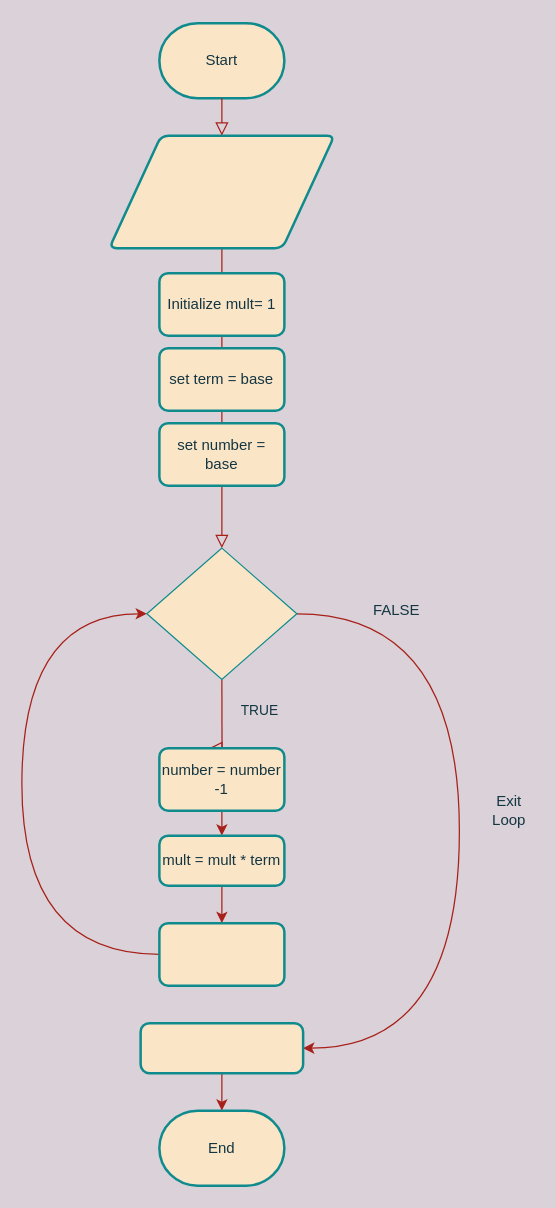
Some shapes in this 556 by 1208 pixel diagram are drawn without their labels. The shapes that lost their labels are listed below. From the top down, each one's centre as x and y in pixels, then its label:
At point 221,191: "Input: base".
At point 221,613: "While number >=1".
At point 221,953: "term = term - 1".
At point 221,1047: "Return mult".
